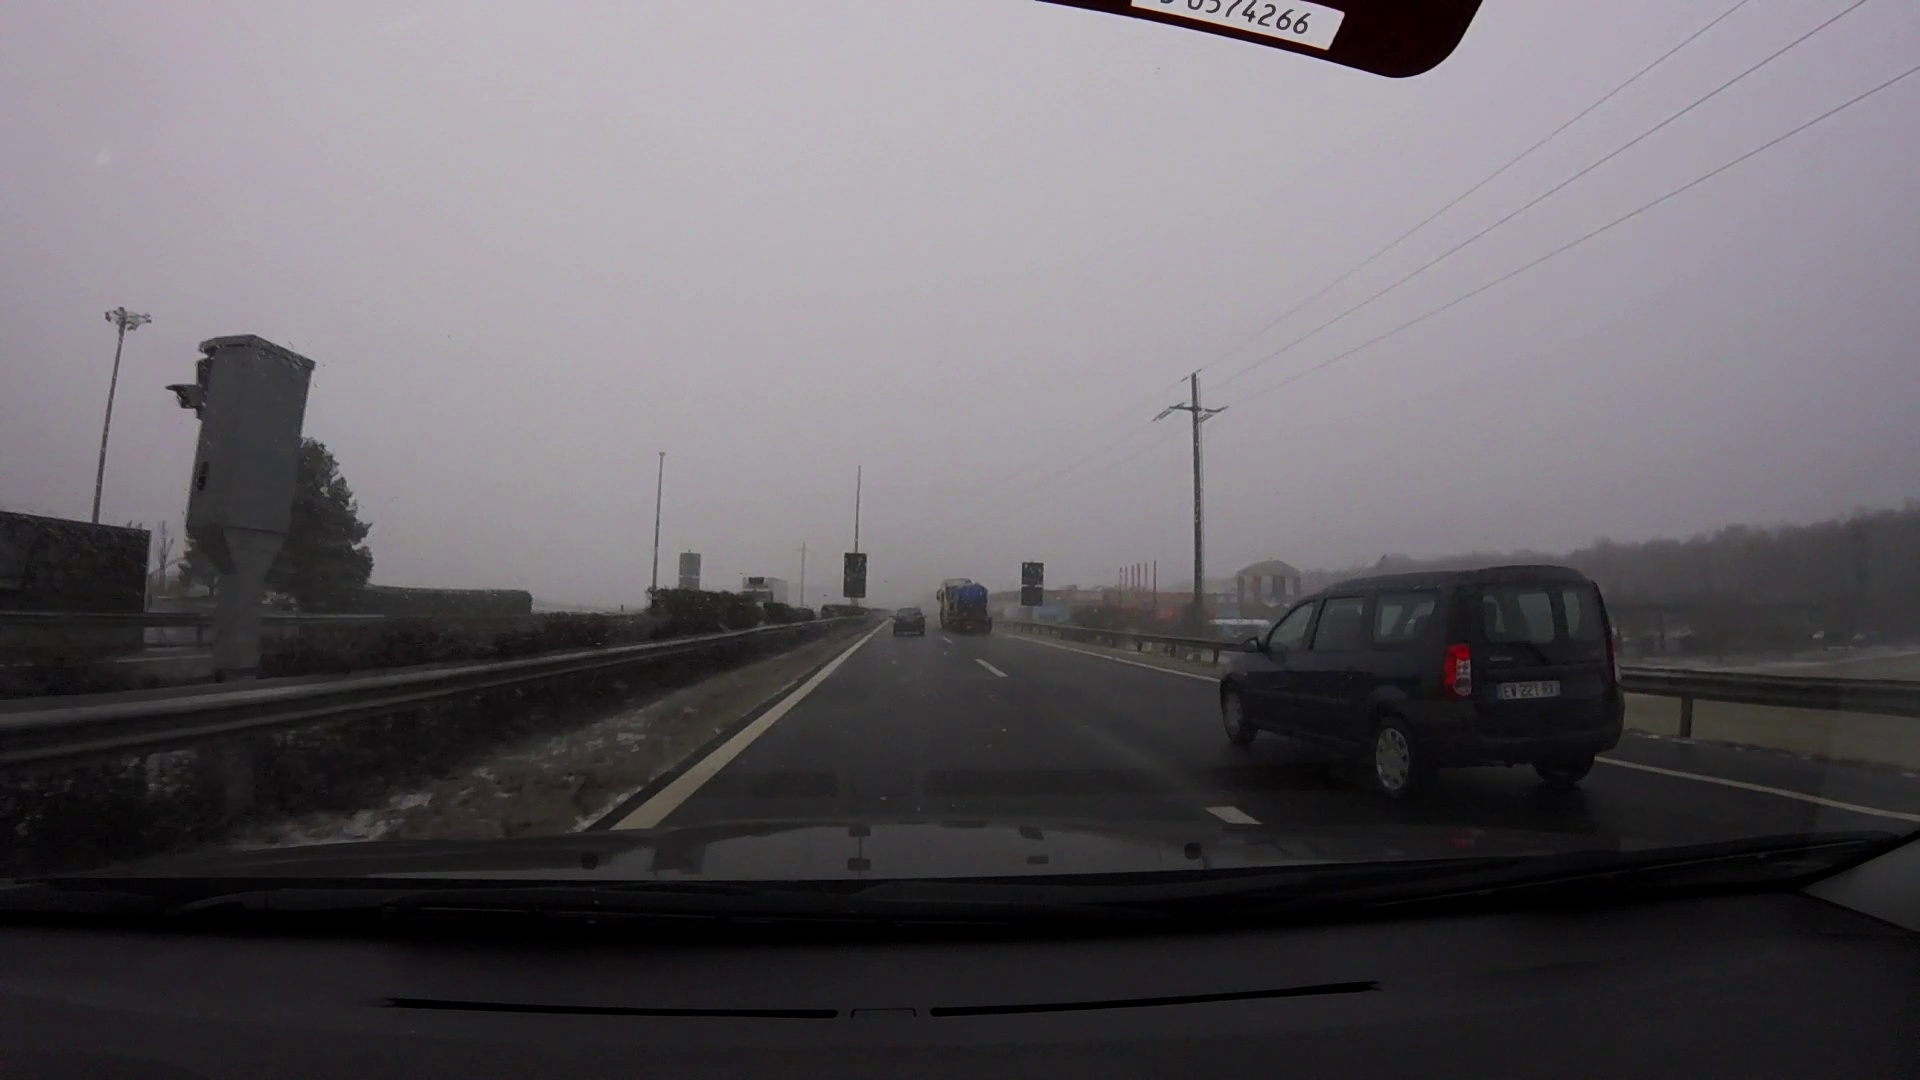radar: (162, 334, 319, 600)
